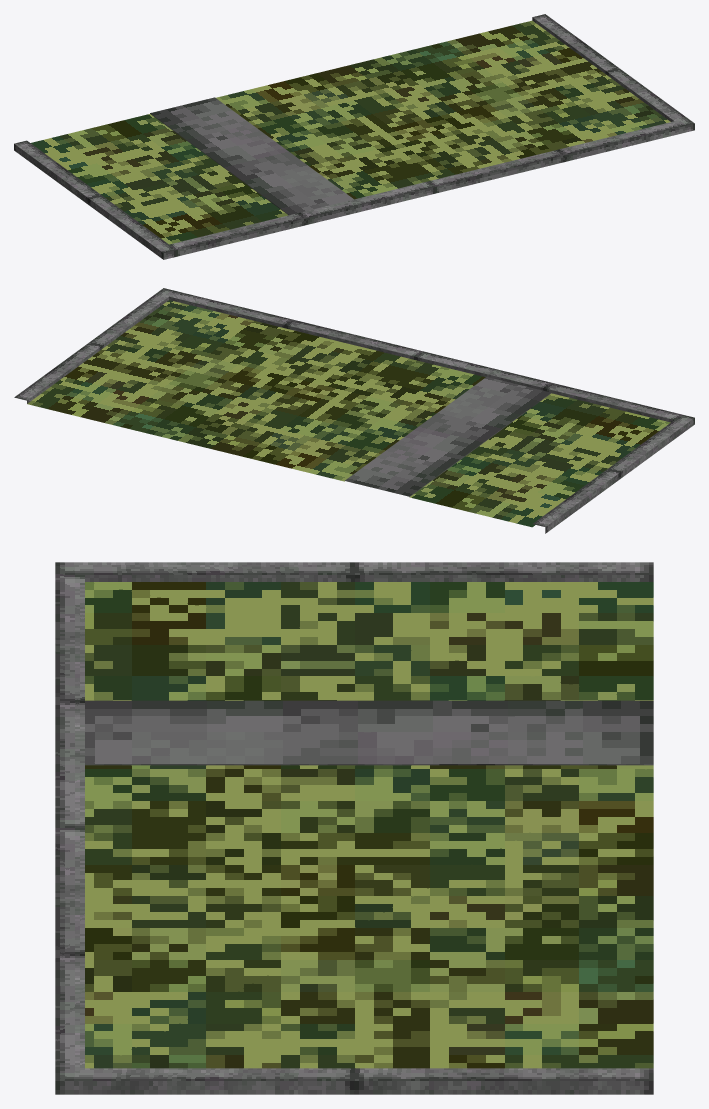
File: DTBuildingBase.glb
The picture shows the model from 3 angles, top to bottom: view 1: azimuth 30°, elevation 25°; view 2: azimuth 150°, elevation 25°; view 3: azimuth 270°, elevation 25°; orthographic projection. The views are drawn at different scales.
Parts seen in each view (by area): view 1: BuildingBase2; view 2: BuildingBase2; view 3: BuildingBase2.
Boxes of the visible parts, x1=… form: BuildingBase2: x1=14, y1=14, x2=694, y2=259; BuildingBase2: x1=14, y1=288, x2=694, y2=533; BuildingBase2: x1=55, y1=562, x2=653, y2=1094.
Size of the model in its own units: 8.2 by 0.1 by 4.
Materials: 4 (3 with a texture image).
